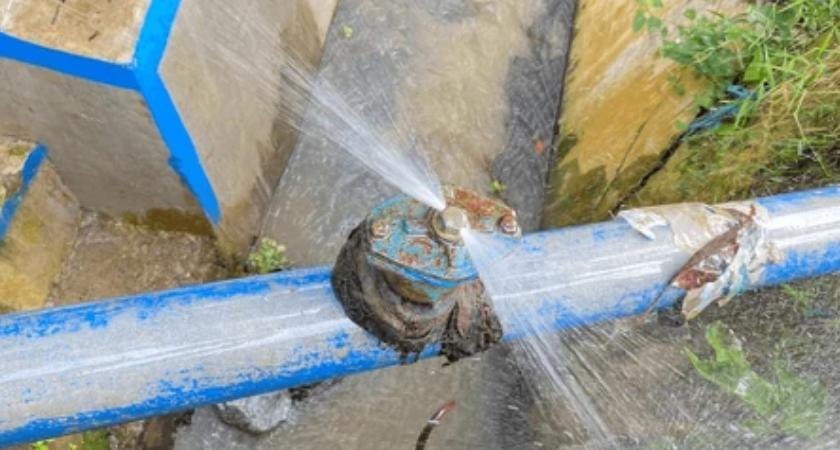pipe burst: (457, 222, 736, 450), (167, 0, 451, 214)
water accumulation: (175, 0, 576, 450)
